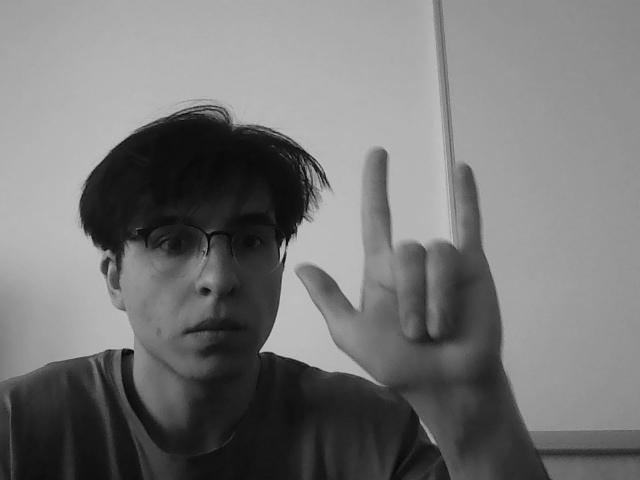I_Love_You: (298, 134, 516, 377)
